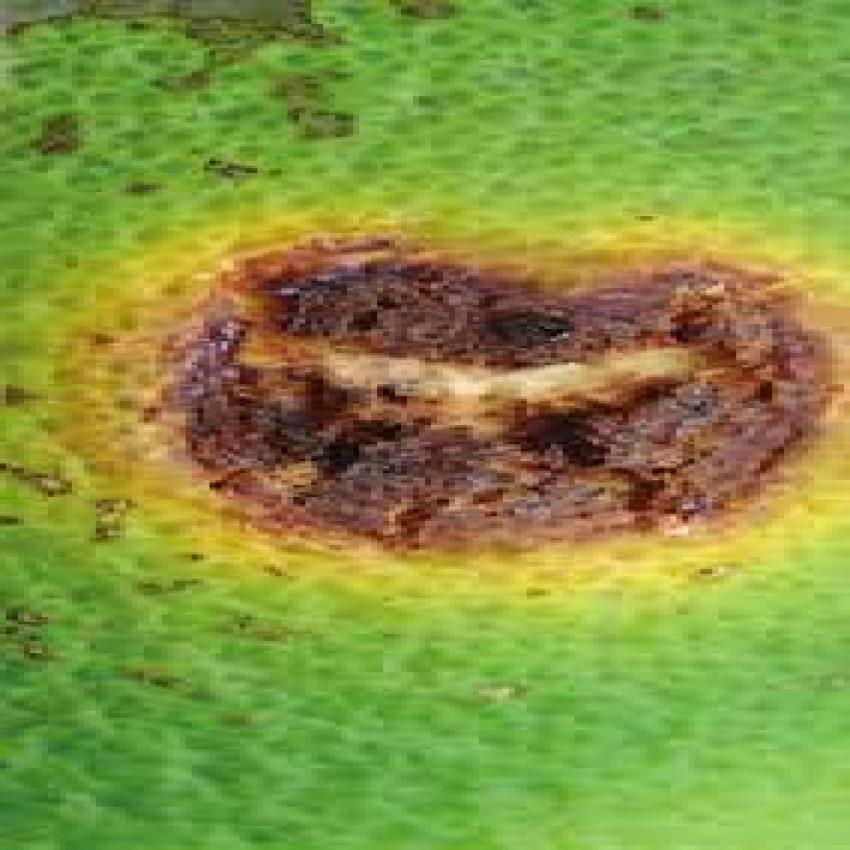Mal estado: (0, 0, 844, 847)
